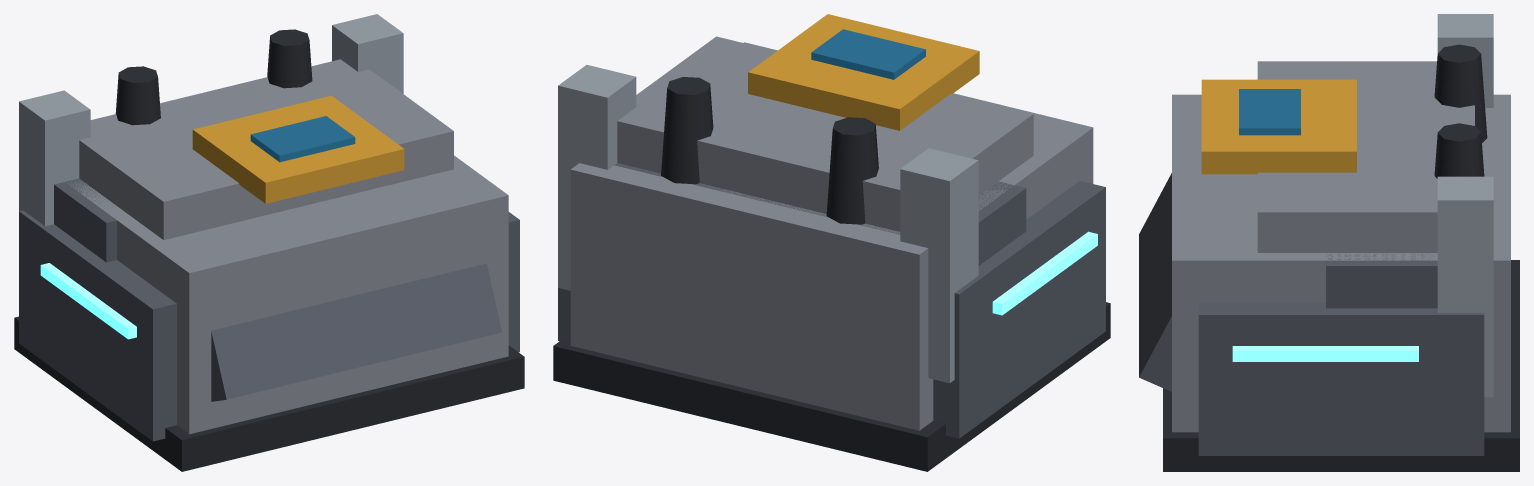
The model's file is body_heavy.glb.
3 views of the same model, side by side, from view 1: azimuth 30°, elevation 25°; view 2: azimuth 150°, elevation 25°; view 3: azimuth 270°, elevation 25° (orthographic). The views are drawn at different scales.
Parts seen in each view (by area): view 1: body, hatch; view 2: body, hatch; view 3: body, hatch.
Part boxes in pixels (box(x1,y1,x2,y2)): body: box(14, 14, 524, 471); hatch: box(192, 95, 404, 203); body: box(553, 36, 1110, 471); hatch: box(748, 14, 979, 130); body: box(1139, 14, 1519, 471); hatch: box(1201, 79, 1356, 174).
Size of the model in its own units: 1.52 by 1.03 by 1.23.
